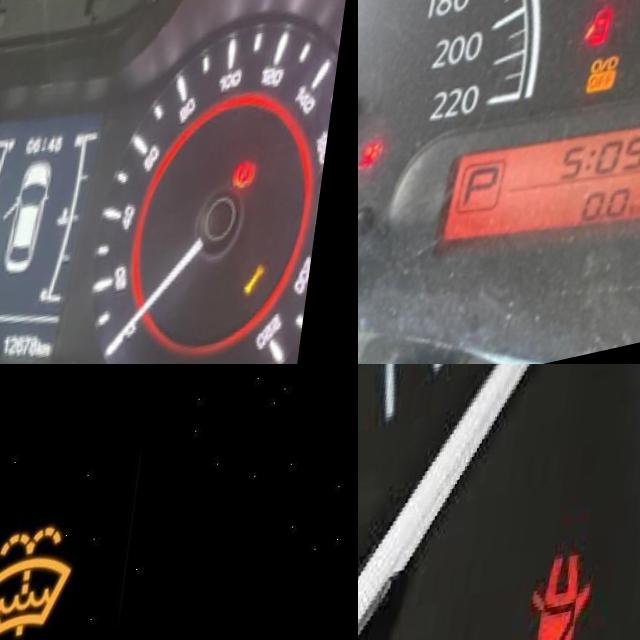Doors: (586, 26, 624, 76)
Seat Belt: (533, 570, 602, 640)
Washer Fluid: (0, 532, 90, 640)
